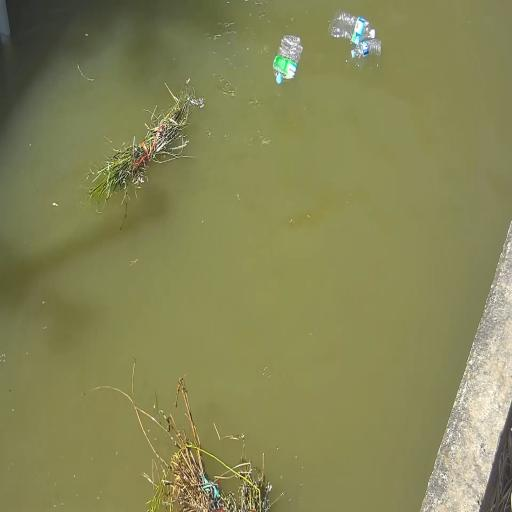plastic: (330, 11, 375, 45), (273, 36, 302, 83), (351, 39, 381, 58)
twig: (94, 359, 272, 512), (88, 79, 204, 204), (77, 64, 93, 81)
